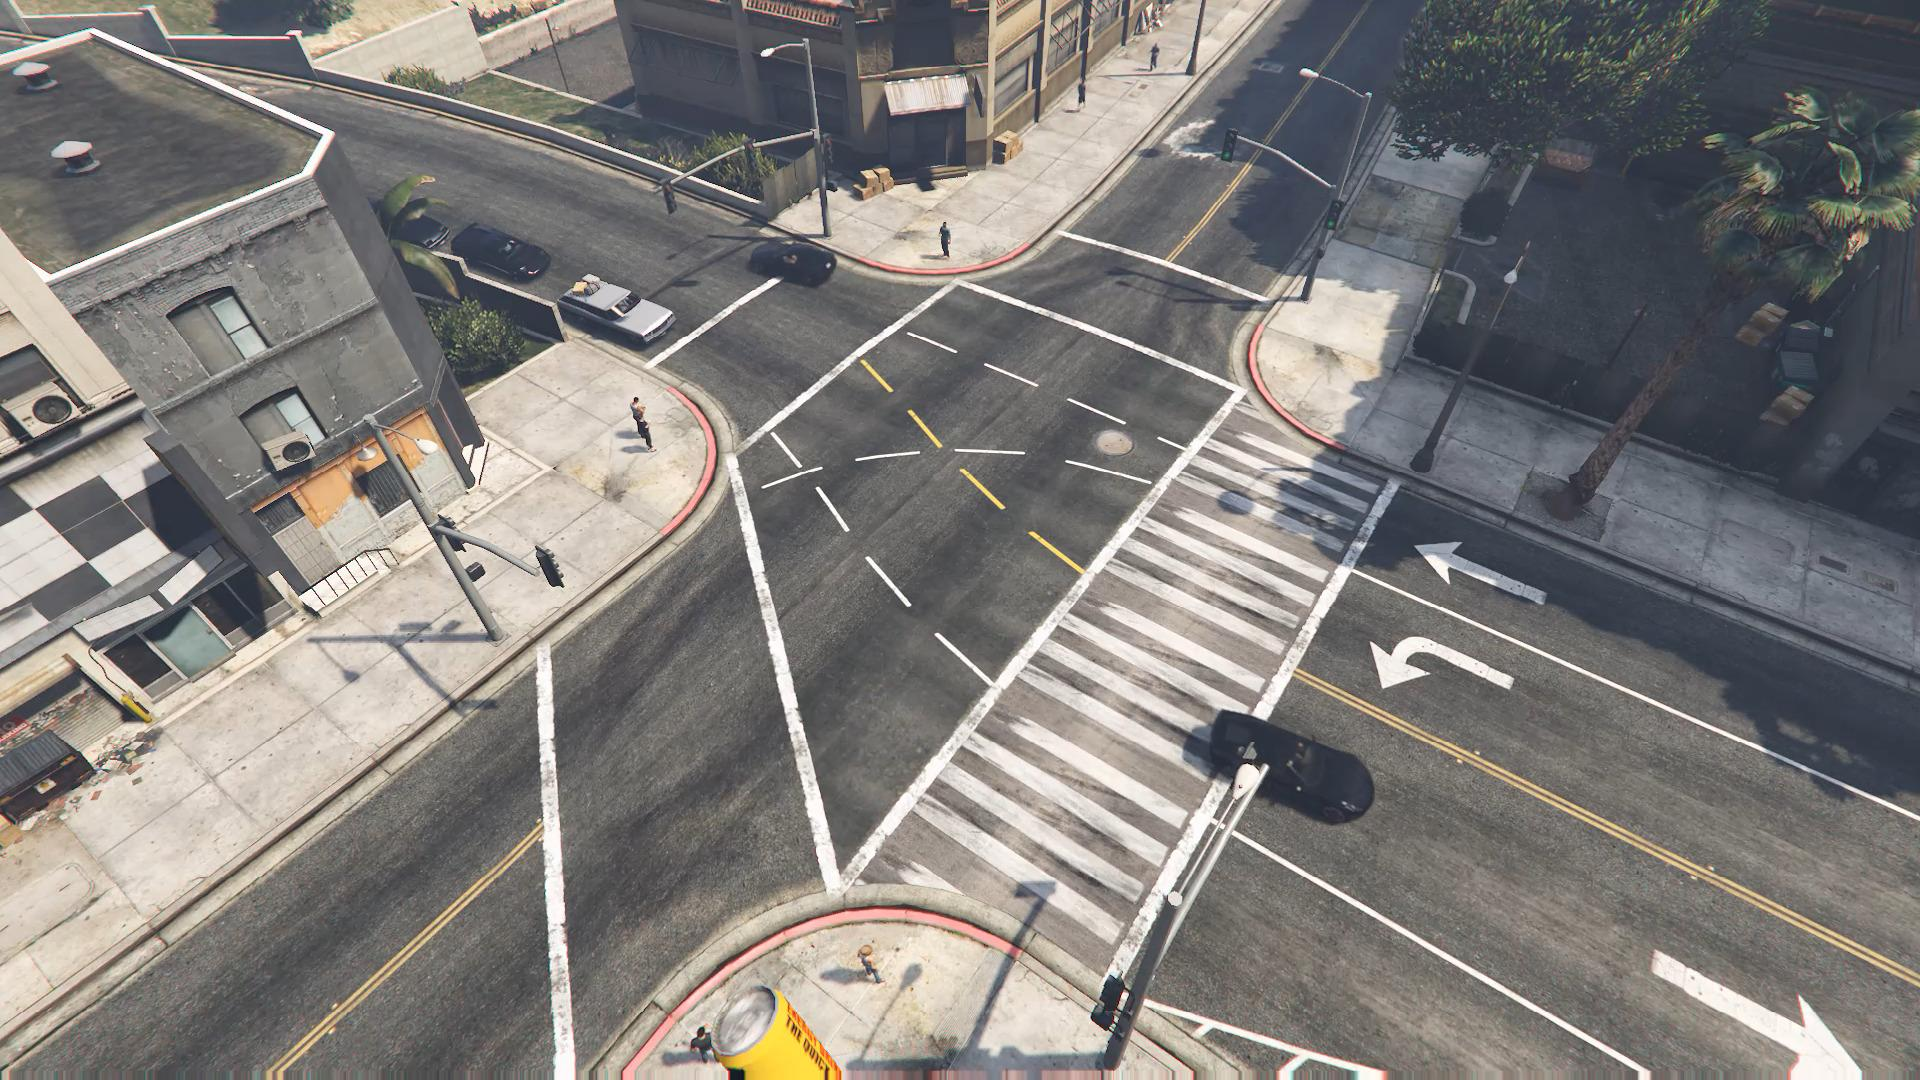car: (1201, 699, 1385, 831), (556, 272, 675, 345), (450, 222, 551, 281), (746, 240, 837, 287), (390, 212, 448, 252)
